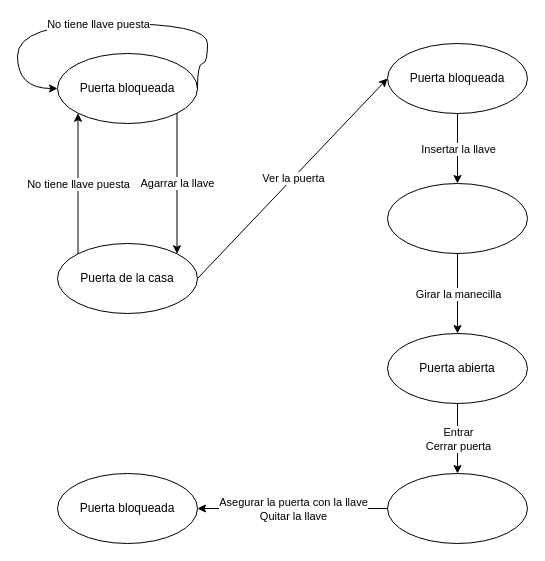
Some shapes in this 545 by 561 pixel diagram are drawn without their labels. Here are the shapes that lost their labels. From the top down, the box of each, then its label:
(386, 182, 528, 254): Puerta desbloqueada
(386, 472, 528, 544): Puerta cerrada
